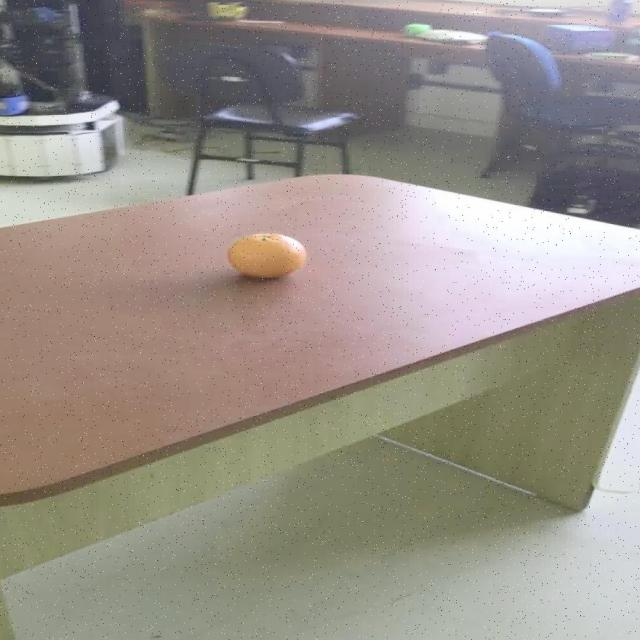Orange: (228, 232, 308, 278), (404, 22, 433, 36)
